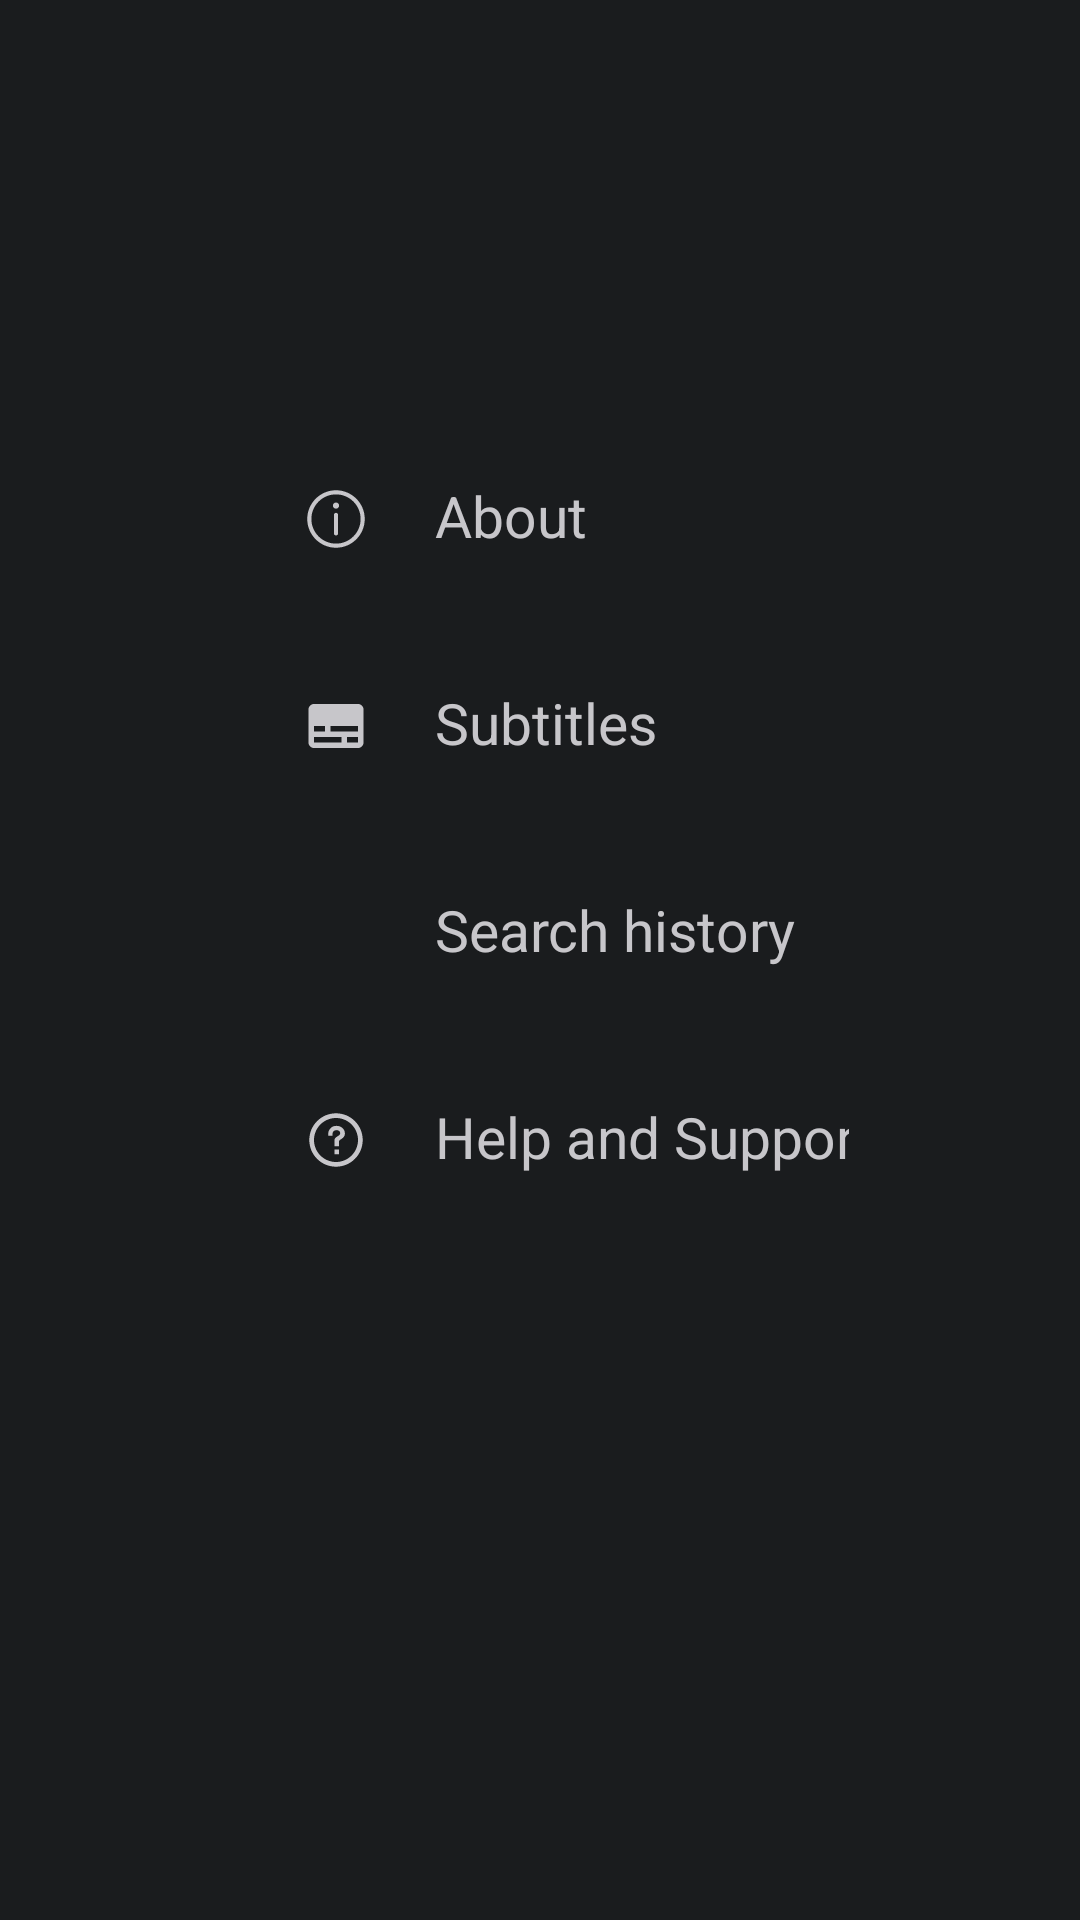

Screen size 1080px×1920px. Icon name, then its box in pixels as box=[x1, y1, x2, y2]:
set help: box=[309, 1113, 363, 1167]
set sub: box=[308, 704, 364, 748]
